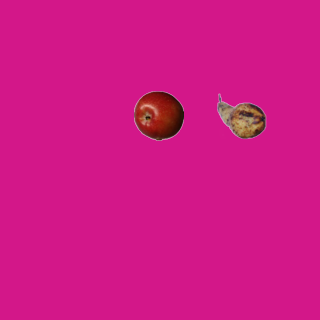Apple Braeburn: (133, 90, 183, 140)
Pear Abate: (216, 91, 266, 141)
